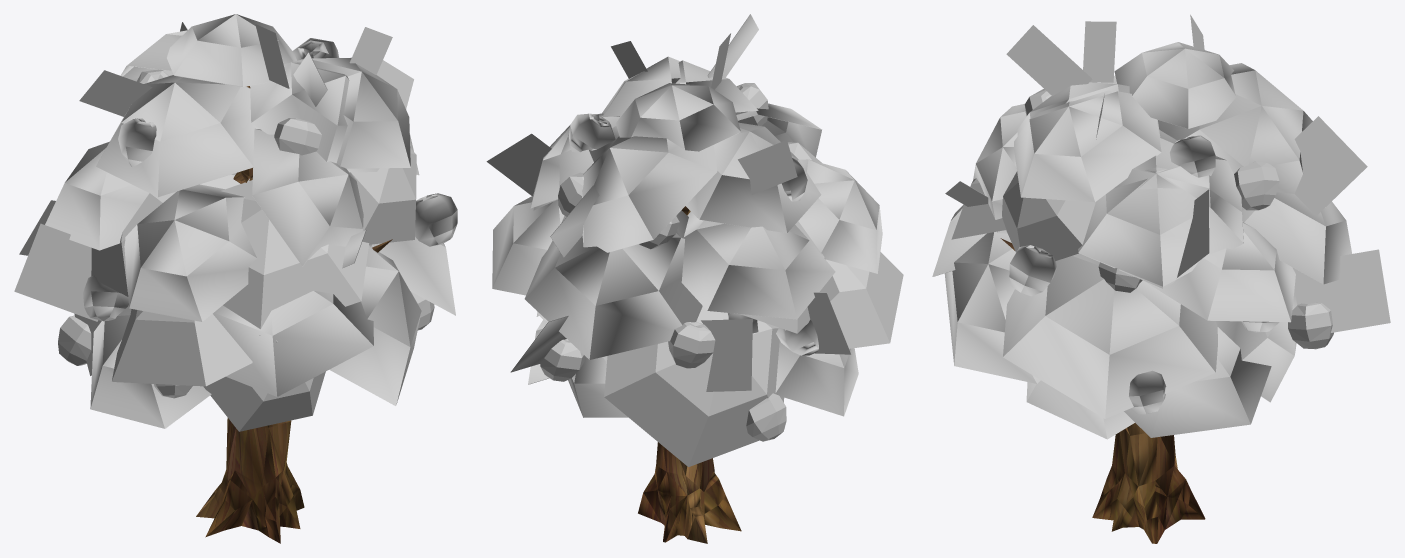
File: appletree_stage_2.FBX
The picture shows the model from 3 angles, left to right: view 1: azimuth 30°, elevation 25°; view 2: azimuth 150°, elevation 25°; view 3: azimuth 270°, elevation 25°; orthographic projection. The views are drawn at different scales.
Visible parts, largest first — view 1: appletree_stage_2; view 2: appletree_stage_2; view 3: appletree_stage_2.
Part boxes in pixels (x1,y1,x2,y2): appletree_stage_2: [14, 14, 457, 543]; appletree_stage_2: [486, 14, 903, 543]; appletree_stage_2: [932, 14, 1390, 543].
Bounding box in the file's own units: 133 × 163 × 138.
